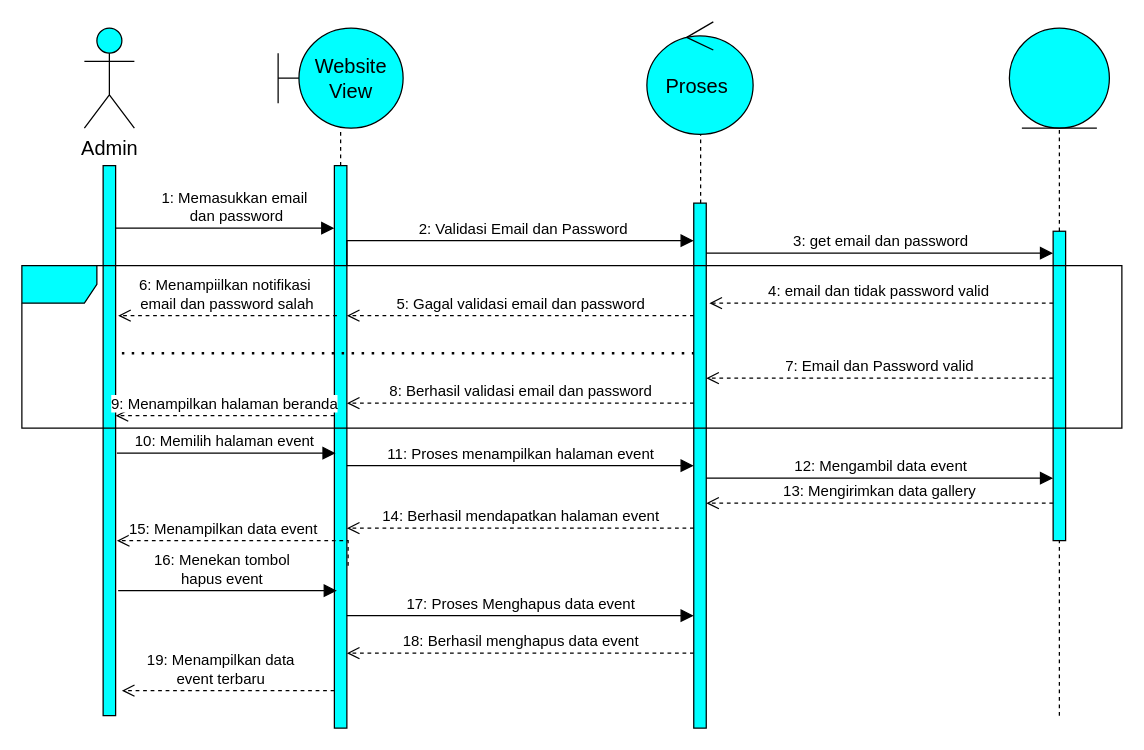
The diagram is 1144 pixels wide and 750 high, and some of its shapes have lost their labels. Here are the shapes that lost their labels. From the top down, the centre of each, then its label:
At point (1058, 77): "Database".
At point (571, 346): "Alt".
